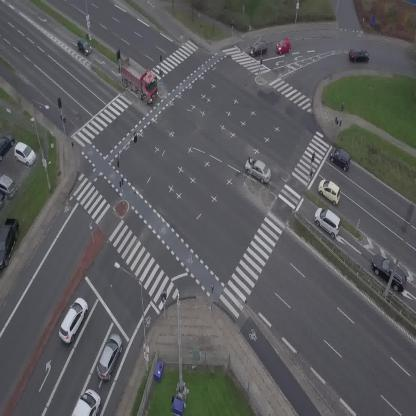car: (366, 250, 414, 295), (54, 295, 92, 346), (93, 331, 127, 382), (309, 203, 347, 240), (241, 155, 276, 185), (314, 176, 346, 206), (326, 145, 355, 172), (73, 37, 94, 57), (247, 39, 269, 57), (348, 47, 370, 63), (274, 37, 293, 54)
lorry: (112, 54, 166, 105), (72, 389, 101, 416)
